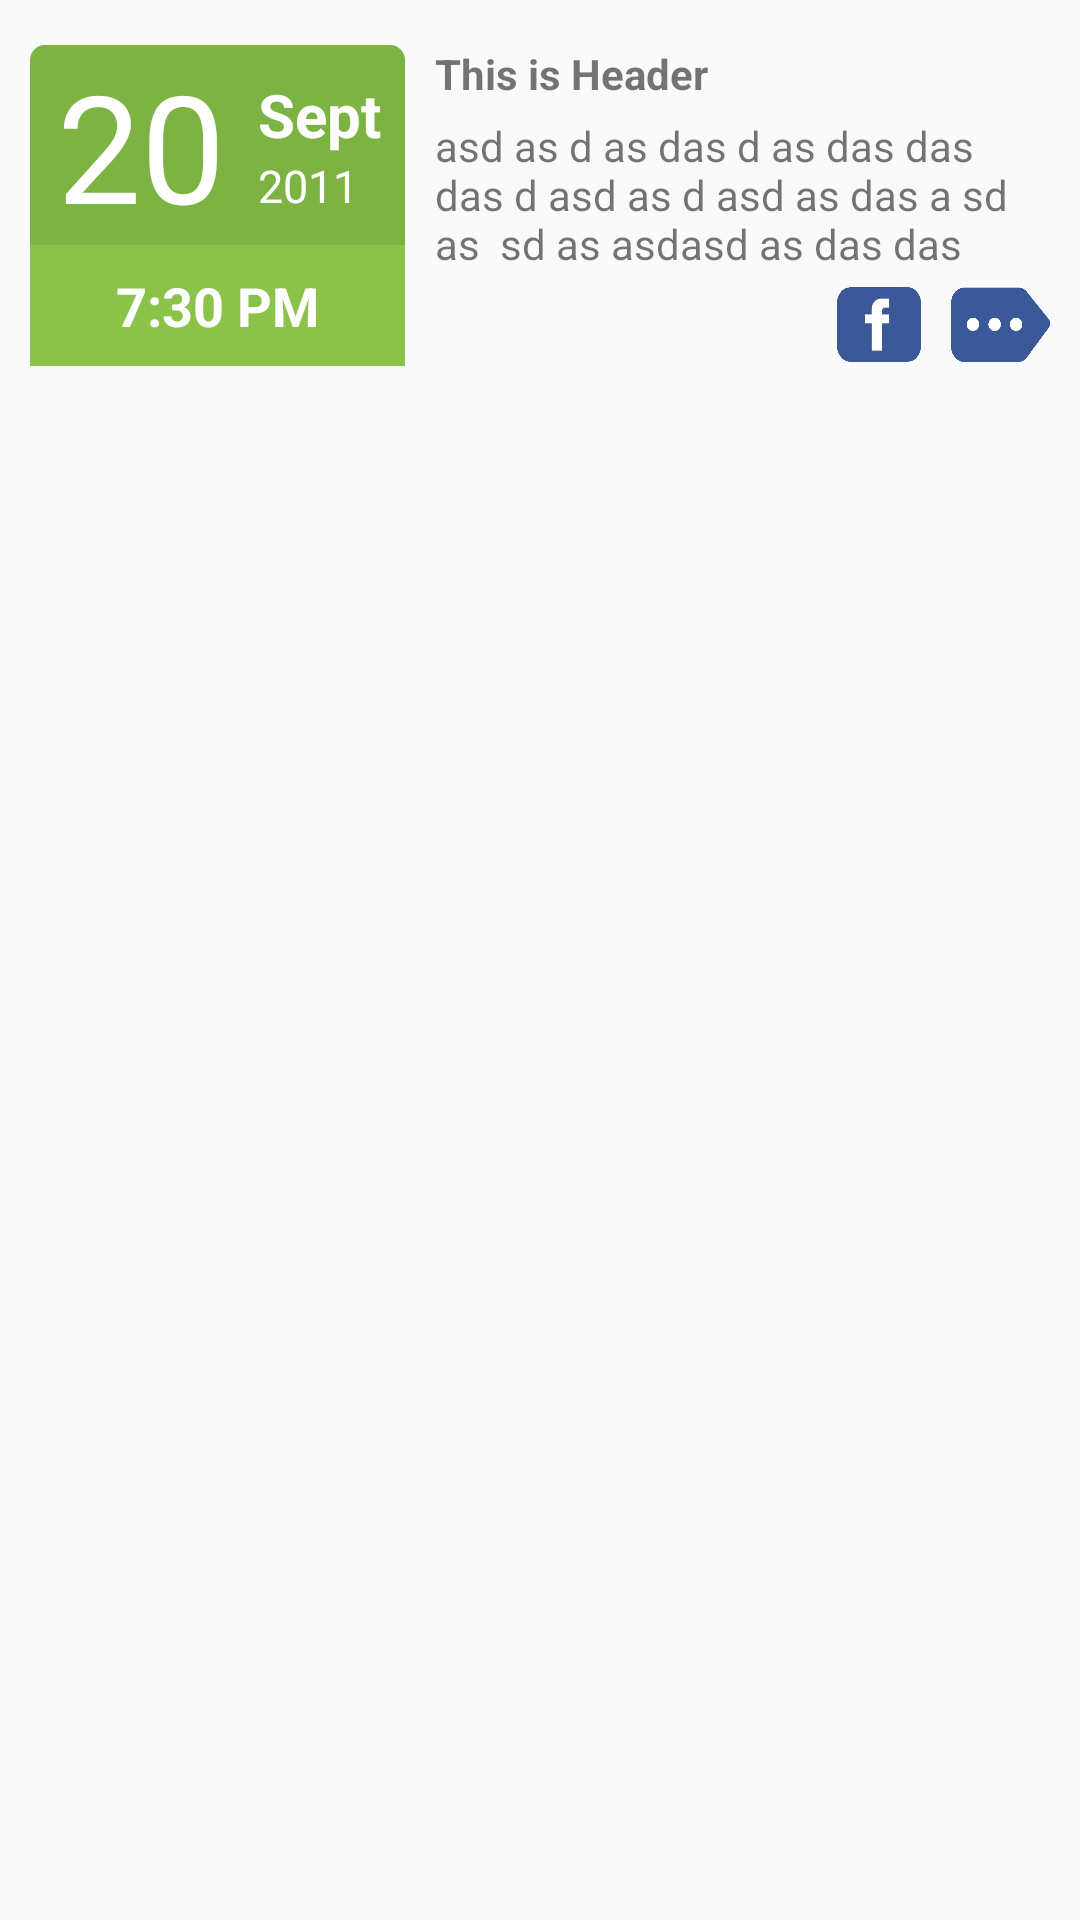

Icons on this 1080x1920 Android screen, each with the point to tap as point (x, y):
read more: point (1000, 324)
